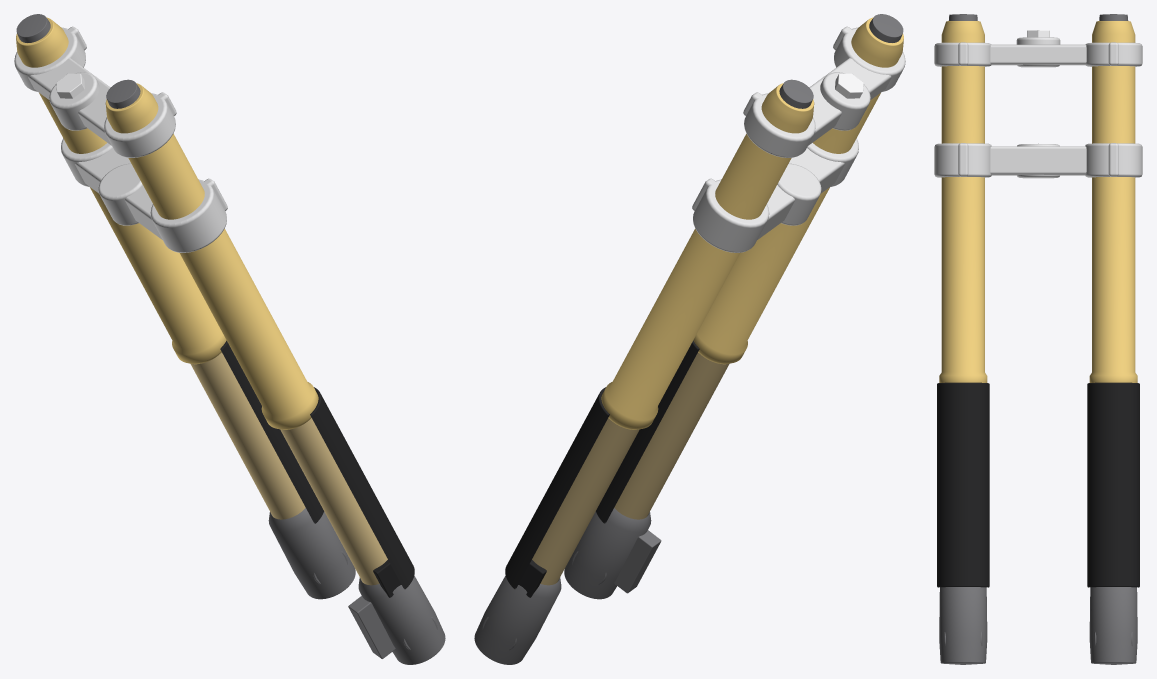
File: bike_mx_2t__forks.glb
3 views of the same model, side by side, from view 1: azimuth 30°, elevation 25°; view 2: azimuth 150°, elevation 25°; view 3: azimuth 270°, elevation 25° (orthographic). The views are drawn at different scales.
Parts seen in each view (by area): view 1: chassis__front_fork__left_outer_tube, chassis__front_fork__right_outer_tube, chassis__steering__lower_triple_clamp, chassis__steering__upper_triple_clamp, chassis__front_fork__right_inner_tube, chassis__front_fork__left_inner_tube, chassis__front_fork__left_axle_foot, chassis__front_fork__right_axle_foot, chassis__front_fork__left_guard, chassis__front_fork__right_guard, chassis__front_fork__right_cap, chassis__front_fork__left_cap; view 2: chassis__front_fork__right_outer_tube, chassis__front_fork__left_outer_tube, chassis__steering__lower_triple_clamp, chassis__steering__upper_triple_clamp, chassis__front_fork__left_inner_tube, chassis__front_fork__left_axle_foot, chassis__front_fork__right_inner_tube, chassis__front_fork__right_guard, chassis__front_fork__right_axle_foot, chassis__front_fork__left_guard, chassis__front_fork__left_cap, chassis__front_fork__right_cap; view 3: chassis__front_fork__left_outer_tube, chassis__front_fork__right_outer_tube, chassis__front_fork__left_guard, chassis__front_fork__right_guard, chassis__steering__lower_triple_clamp, chassis__steering__upper_triple_clamp, chassis__front_fork__left_axle_foot, chassis__front_fork__right_axle_foot.
Boxes of the visible parts, x1,y1,x2,y2 form: chassis__front_fork__left_outer_tube: (105, 83, 318, 429); chassis__front_fork__right_outer_tube: (16, 17, 226, 364); chassis__steering__lower_triple_clamp: (61, 138, 227, 252); chassis__steering__upper_triple_clamp: (14, 26, 176, 157); chassis__front_fork__right_inner_tube: (190, 352, 305, 519); chassis__front_fork__left_inner_tube: (280, 418, 387, 585); chassis__front_fork__left_axle_foot: (348, 576, 445, 664); chassis__front_fork__right_axle_foot: (268, 508, 355, 599); chassis__front_fork__left_guard: (310, 387, 414, 597); chassis__front_fork__right_guard: (220, 340, 323, 523); chassis__front_fork__right_cap: (16, 14, 50, 42); chassis__front_fork__left_cap: (106, 79, 140, 108); chassis__front_fork__right_outer_tube: (601, 83, 814, 429); chassis__front_fork__left_outer_tube: (693, 17, 903, 364); chassis__steering__lower_triple_clamp: (692, 138, 858, 252); chassis__steering__upper_triple_clamp: (743, 26, 905, 157); chassis__front_fork__left_inner_tube: (614, 352, 729, 519); chassis__front_fork__left_axle_foot: (564, 508, 661, 599); chassis__front_fork__right_inner_tube: (532, 418, 639, 585); chassis__front_fork__right_guard: (505, 387, 609, 597); chassis__front_fork__right_axle_foot: (474, 576, 561, 664); chassis__front_fork__left_guard: (596, 340, 699, 523); chassis__front_fork__left_cap: (869, 14, 903, 42); chassis__front_fork__right_cap: (779, 79, 813, 108); chassis__front_fork__left_outer_tube: (939, 21, 987, 382); chassis__front_fork__right_outer_tube: (1089, 21, 1137, 382); chassis__front_fork__left_guard: (937, 382, 989, 587); chassis__front_fork__right_guard: (1087, 382, 1139, 587); chassis__steering__lower_triple_clamp: (934, 143, 1142, 178); chassis__steering__upper_triple_clamp: (934, 37, 1142, 67); chassis__front_fork__left_axle_foot: (939, 587, 987, 664); chassis__front_fork__right_axle_foot: (1089, 587, 1137, 664).
Size of the model in its own units: 45.51 by 81.73 by 28.5.
